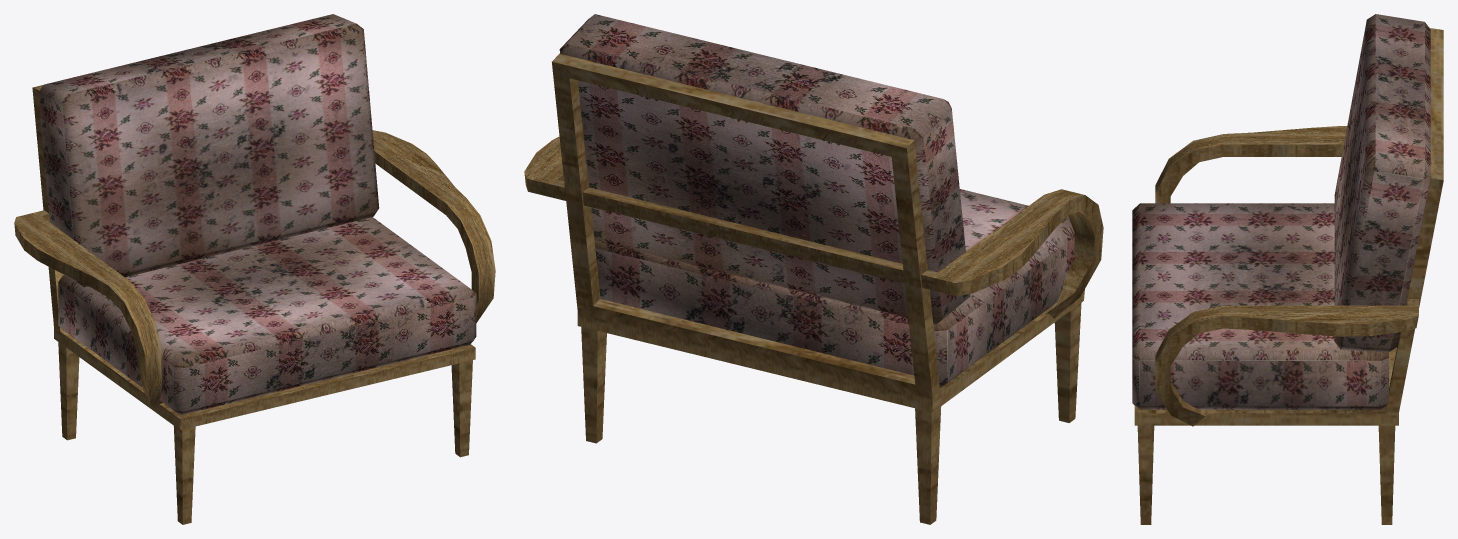
File: low_single_1.obj
3 renders of one model, left to right at view 1: azimuth 30°, elevation 25°; view 2: azimuth 150°, elevation 25°; view 3: azimuth 270°, elevation 25°, orthographic. The views are drawn at different scales.
Visible parts, largest first — view 1: LOW_SINGLE_1; view 2: LOW_SINGLE_1; view 3: LOW_SINGLE_1.
Boxes of the visible parts, x1,y1,x2,y2 form: LOW_SINGLE_1: [14, 14, 495, 524]; LOW_SINGLE_1: [524, 14, 1103, 524]; LOW_SINGLE_1: [1132, 14, 1443, 524].
Size of the model in its own units: 1.22 by 1.05 by 0.8116.
